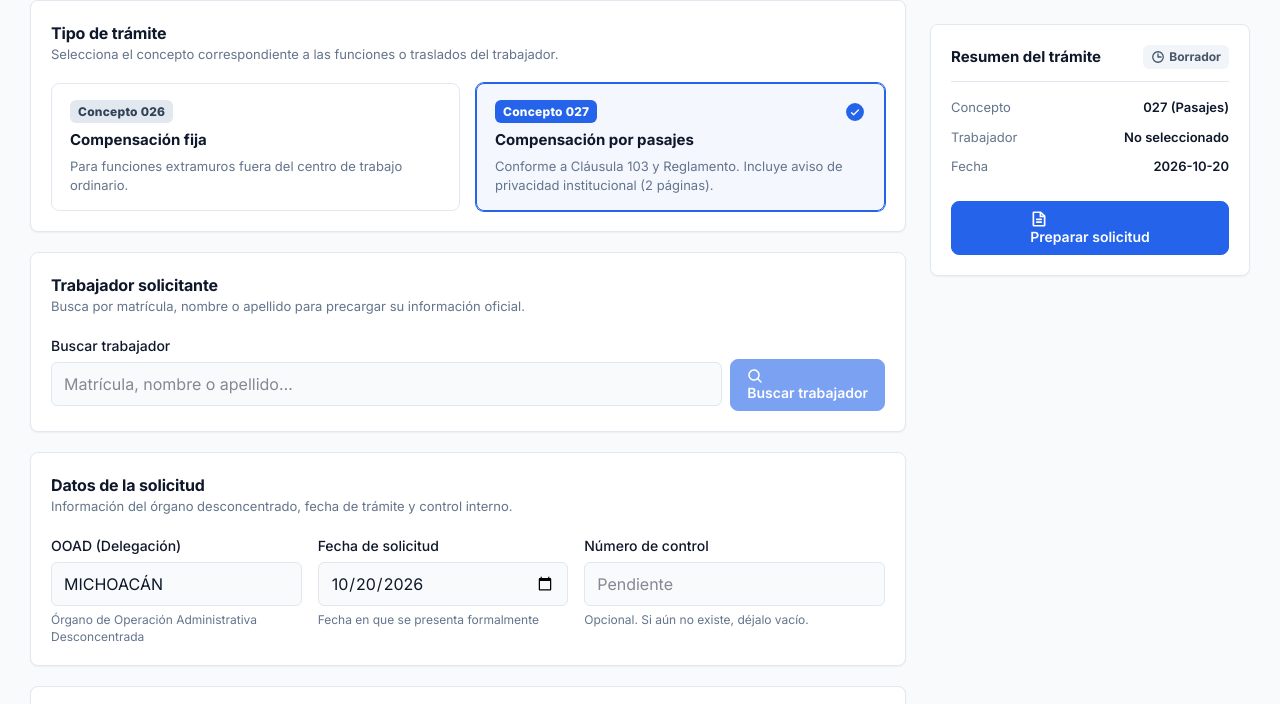
Test case: PassageWizard UI Workflow & Interactions › permite buscar y seleccionar un trabajador, mostrando la tarjeta de alta jerarquía
This screenshot has width=1280, height=704.
Note: Buscador visible inicialmente
Type "BOLAÑOS" into the field with placeholder "Matrícula, nombre o apellido…".
click(387, 384); type("BOLAÑOS")  # box [51,362,722,406]
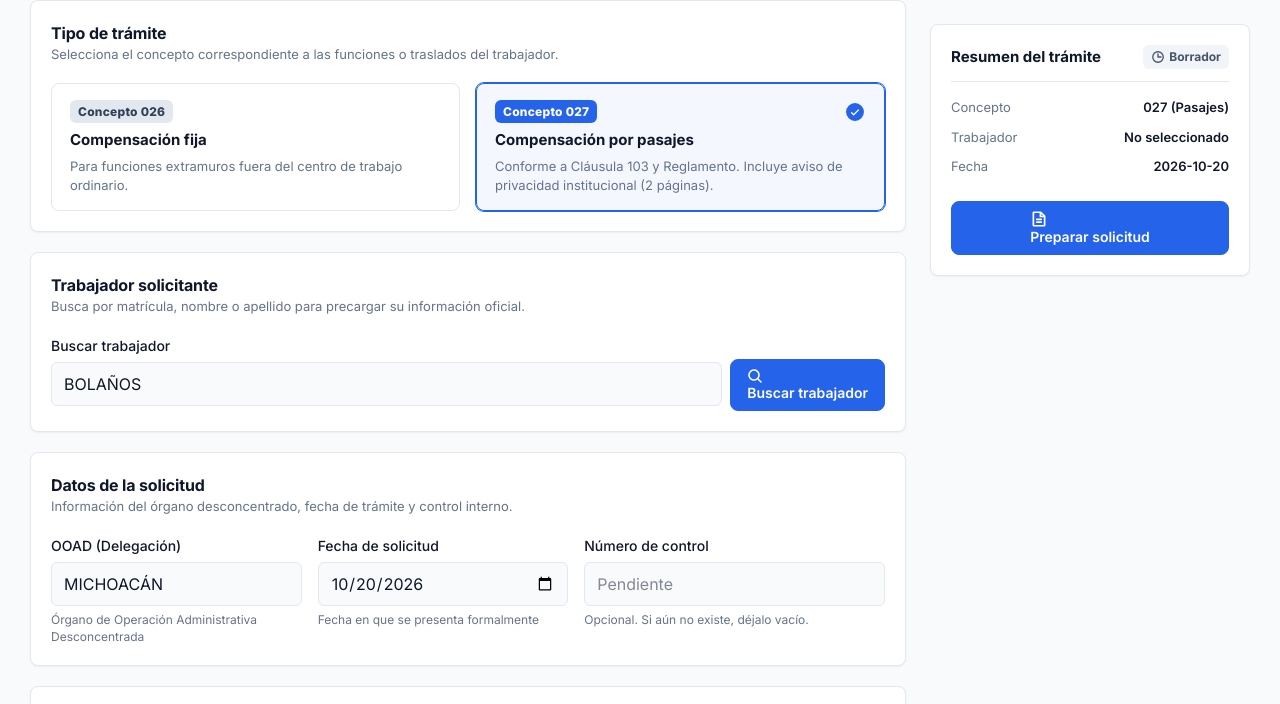
Click the button "Buscar trabajador".
click(808, 385)  # box [730,359,885,411]
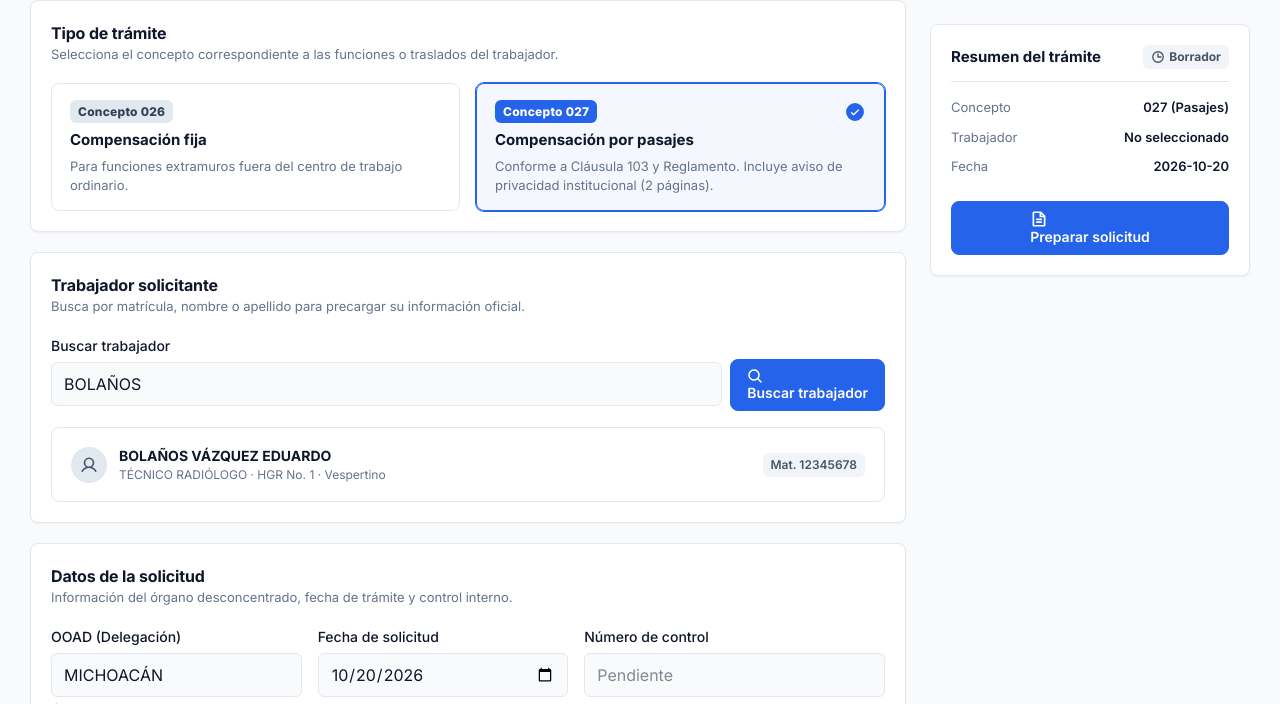
Result: the text "BOLAÑOS VÁZQUEZ EDUARDO" is shown at [119,447,331,464]
Note: Seleccionar trabajador
Click the button "BOLAÑOS VÁZQUEZ".
click(89, 465)  # box [58,434,878,495]
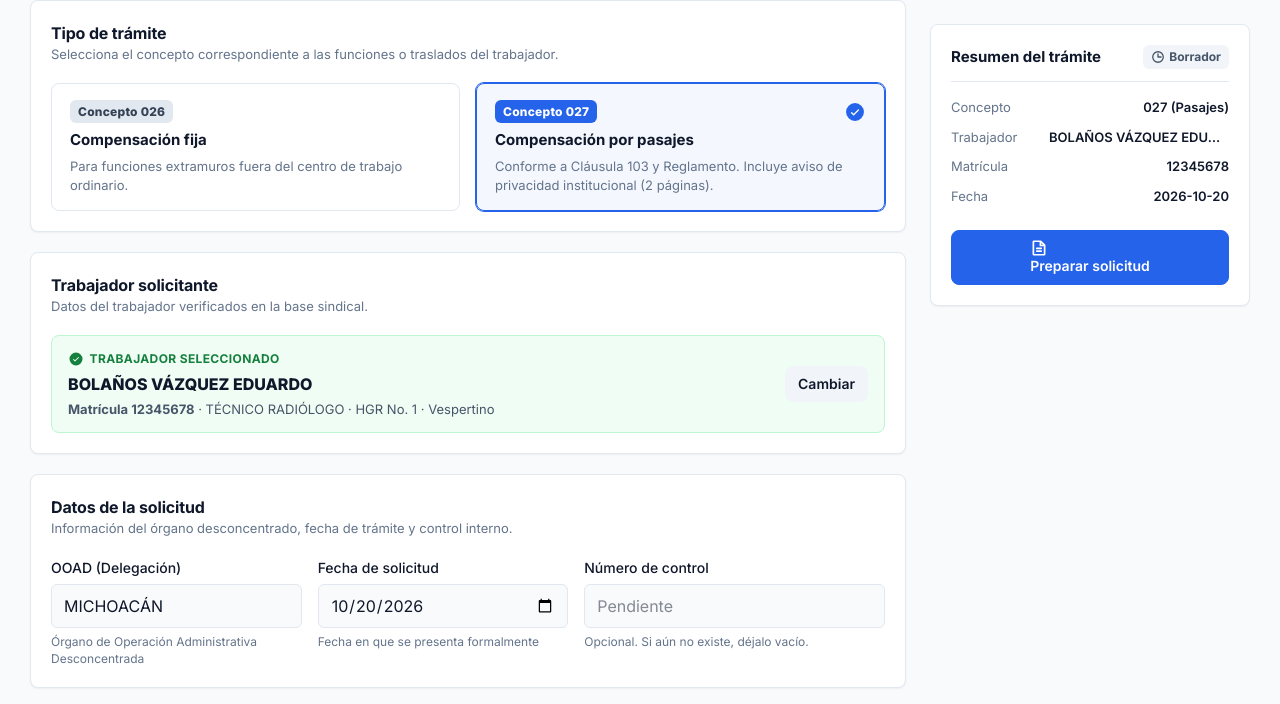
Result: the text "Trabajador seleccionado" is shown at [68,351,280,367]
Result: the button with aria-label "cambiar trabajador seleccionado" is shown at [785,366,868,402]
Result: the text with placeholder "matrícula, nombre o apellido" is gone
